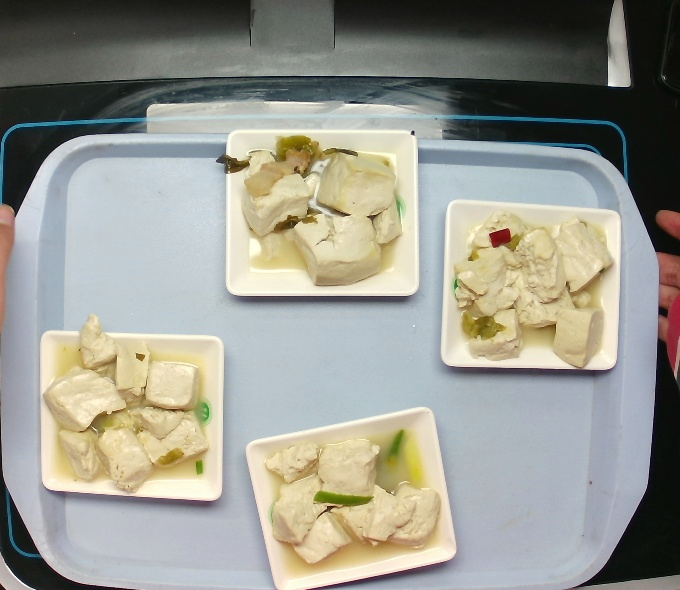wcq-LuDouFu: (41, 307, 215, 503), (254, 424, 449, 580), (215, 129, 407, 286), (450, 208, 618, 379)
